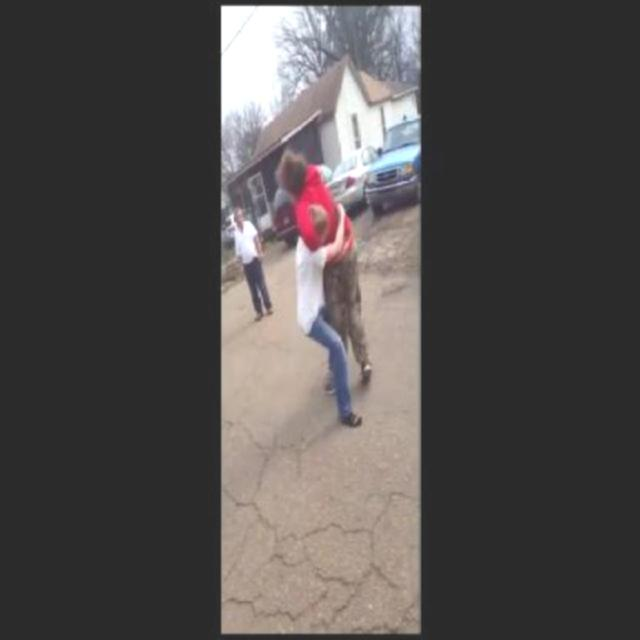fight: (270, 148, 375, 432)
